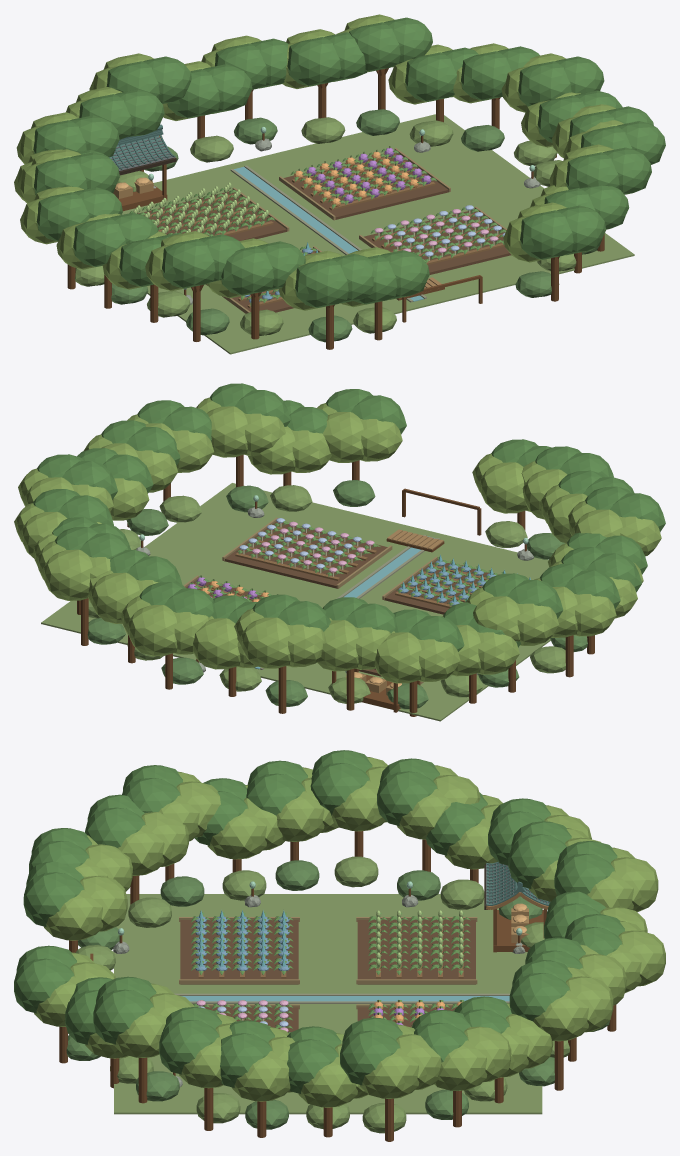
The model's file is scenic_farm-refined-v5.glb.
3 renders of one model, top to bottom at view 1: azimuth 30°, elevation 25°; view 2: azimuth 150°, elevation 25°; view 3: azimuth 270°, elevation 25°, orthographic. The views are drawn at different scales.
Parts seen in each view (by area): view 1: scenic_farm | settlement:leaf.001, scenic_farm | shrine:box, scenic_farm | settlement:leaf, scenic_farm | settlement:leaf.002, scenic_farm | shrine:box.001, scenic_farm | settlement:leaf.003, scenic_farm | settlement:sprig, scenic_farm | shrine:cyl:10.001, scenic_farm | shrine:box.003, scenic_farm | shrine:stone, scenic_farm | shrine:stone.002, scenic_farm | shrine:stone.003 (+10 smaller); view 2: scenic_farm | settlement:leaf, scenic_farm | settlement:leaf.001, scenic_farm | shrine:box, scenic_farm | settlement:leaf.003, scenic_farm | settlement:leaf.002, scenic_farm | shrine:box.001, scenic_farm | shrine:cyl:10.001, scenic_farm | settlement:sprig, scenic_farm | shrine:box.003, scenic_farm | shrine:box.006, scenic_farm | shrine:stone.001, scenic_farm | shrine:box.002 (+6 smaller); view 3: scenic_farm | settlement:leaf.001, scenic_farm | settlement:leaf, scenic_farm | shrine:box, scenic_farm | shrine:box.001, scenic_farm | settlement:leaf.002, scenic_farm | settlement:leaf.003, scenic_farm | settlement:sprig, scenic_farm | shrine:cyl:10.001, scenic_farm | shrine:box.002, scenic_farm | shrine:stone.001, scenic_farm | shrine:box.005, scenic_farm | shrine:box.004 (+6 smaller).
Boxes of the visible parts, <box> form: scenic_farm | settlement:leaf.001: <box>33,17,665,307</box>; scenic_farm | shrine:box: <box>121,114,634,354</box>; scenic_farm | settlement:leaf: <box>14,14,631,310</box>; scenic_farm | settlement:leaf.002: <box>74,117,576,335</box>; scenic_farm | shrine:box.001: <box>138,152,511,312</box>; scenic_farm | settlement:leaf.003: <box>111,109,598,342</box>; scenic_farm | settlement:sprig: <box>130,149,506,306</box>; scenic_farm | shrine:cyl:10.001: <box>67,69,604,349</box>; scenic_farm | shrine:box.003: <box>149,154,504,308</box>; scenic_farm | shrine:stone: <box>133,182,268,233</box>; scenic_farm | shrine:stone.002: <box>294,151,418,206</box>; scenic_farm | shrine:stone.003: <box>307,148,431,203</box>; scenic_farm | settlement:leaf: <box>14,397,661,683</box>; scenic_farm | settlement:leaf.001: <box>33,383,665,651</box>; scenic_farm | shrine:box: <box>41,483,550,721</box>; scenic_farm | settlement:leaf.003: <box>87,480,587,709</box>; scenic_farm | settlement:leaf.002: <box>88,485,565,703</box>; scenic_farm | shrine:box.001: <box>185,521,499,676</box>; scenic_farm | shrine:cyl:10.001: <box>77,455,594,716</box>; scenic_farm | settlement:sprig: <box>186,521,503,606</box>; scenic_farm | shrine:box.003: <box>194,526,488,608</box>; scenic_farm | shrine:box.006: <box>332,488,481,712</box>; scenic_farm | shrine:stone.001: <box>398,560,495,605</box>; scenic_farm | shrine:box.002: <box>183,517,437,684</box>; scenic_farm | settlement:leaf.001: <box>14,750,624,1093</box>; scenic_farm | settlement:leaf: <box>34,757,665,1107</box>; scenic_farm | shrine:box: <box>114,894,542,1114</box>; scenic_farm | shrine:box.001: <box>180,920,475,1032</box>; scenic_farm | settlement:leaf.002: <box>75,856,569,1133</box>; scenic_farm | settlement:leaf.003: <box>66,860,609,1129</box>; scenic_farm | settlement:sprig: <box>191,912,470,1033</box>; scenic_farm | shrine:cyl:10.001: <box>59,831,616,1141</box>; scenic_farm | shrine:box.002: <box>179,917,477,1009</box>; scenic_farm | shrine:stone.001: <box>195,916,289,970</box>; scenic_farm | shrine:box.005: <box>181,996,509,1001</box>; scenic_farm | shrine:box.004: <box>174,993,509,1003</box>.
Size of the model in its own units: 50.88 by 8.82 by 44.14.
